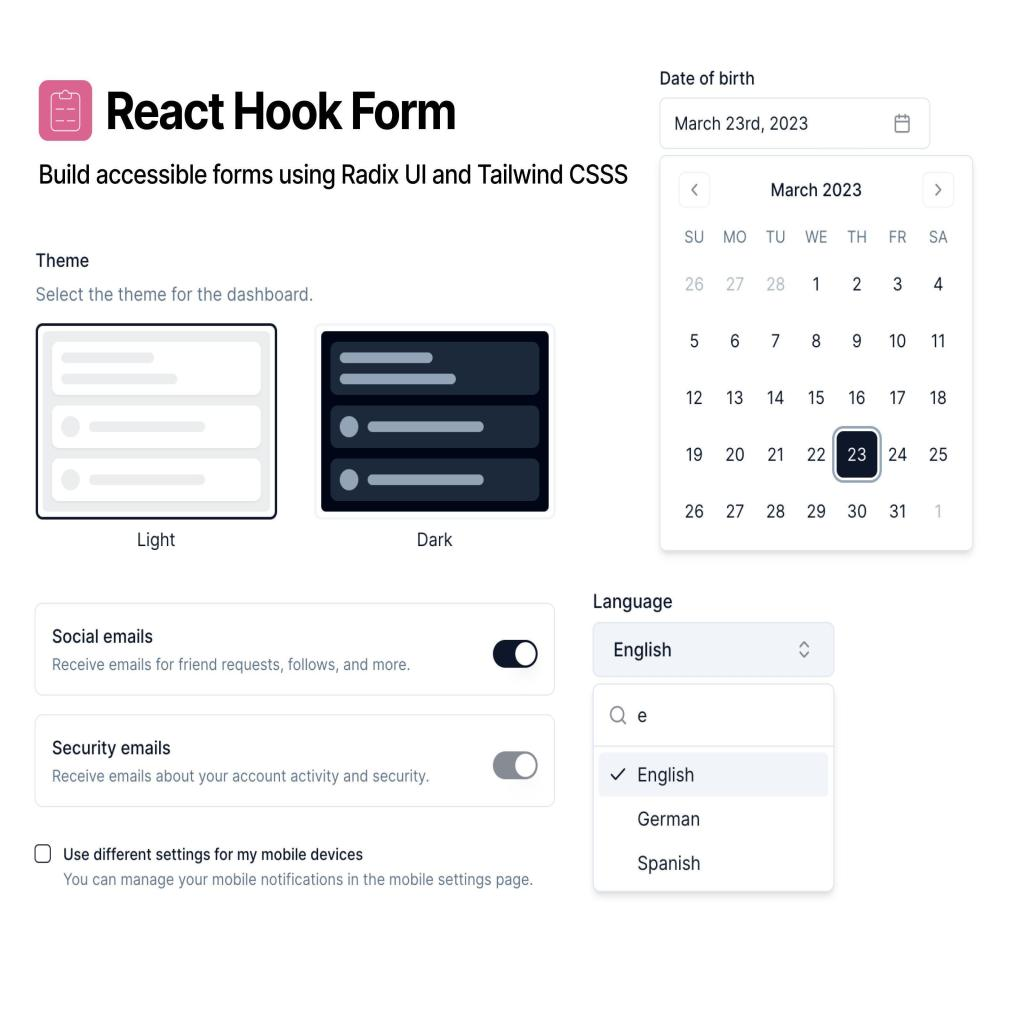checkbox: (35, 843, 51, 864)
dropdown: (594, 622, 834, 678)
icon: (892, 112, 915, 136)
input: (594, 683, 832, 743), (662, 97, 892, 148)
label: (105, 84, 458, 135), (60, 843, 366, 865), (658, 65, 758, 93), (48, 624, 157, 648), (50, 736, 174, 757), (632, 760, 698, 788), (635, 807, 703, 831), (637, 853, 701, 876), (36, 248, 94, 272), (135, 524, 178, 555), (416, 526, 456, 551)
switch: (492, 640, 538, 670), (492, 751, 539, 780)
